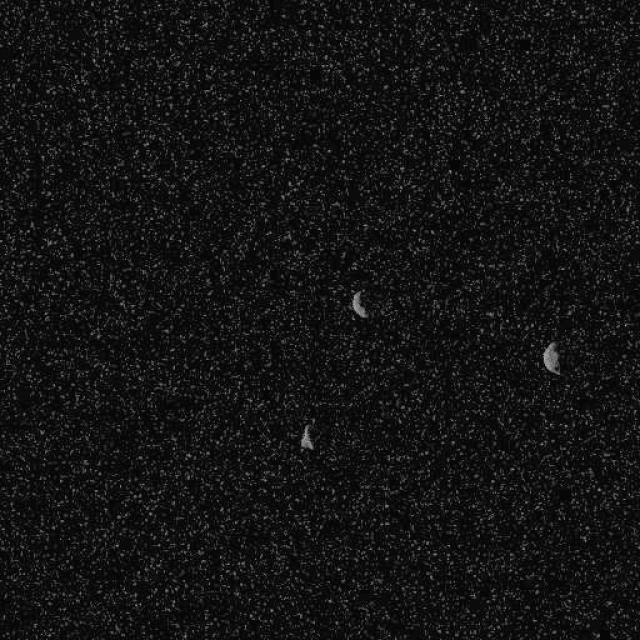D2: (541, 340, 561, 375), (350, 289, 368, 319), (298, 422, 314, 450)
